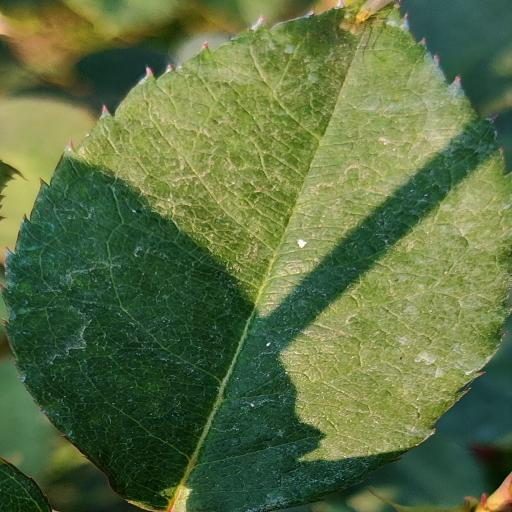healthy_leaf: (4, 9, 512, 512)
